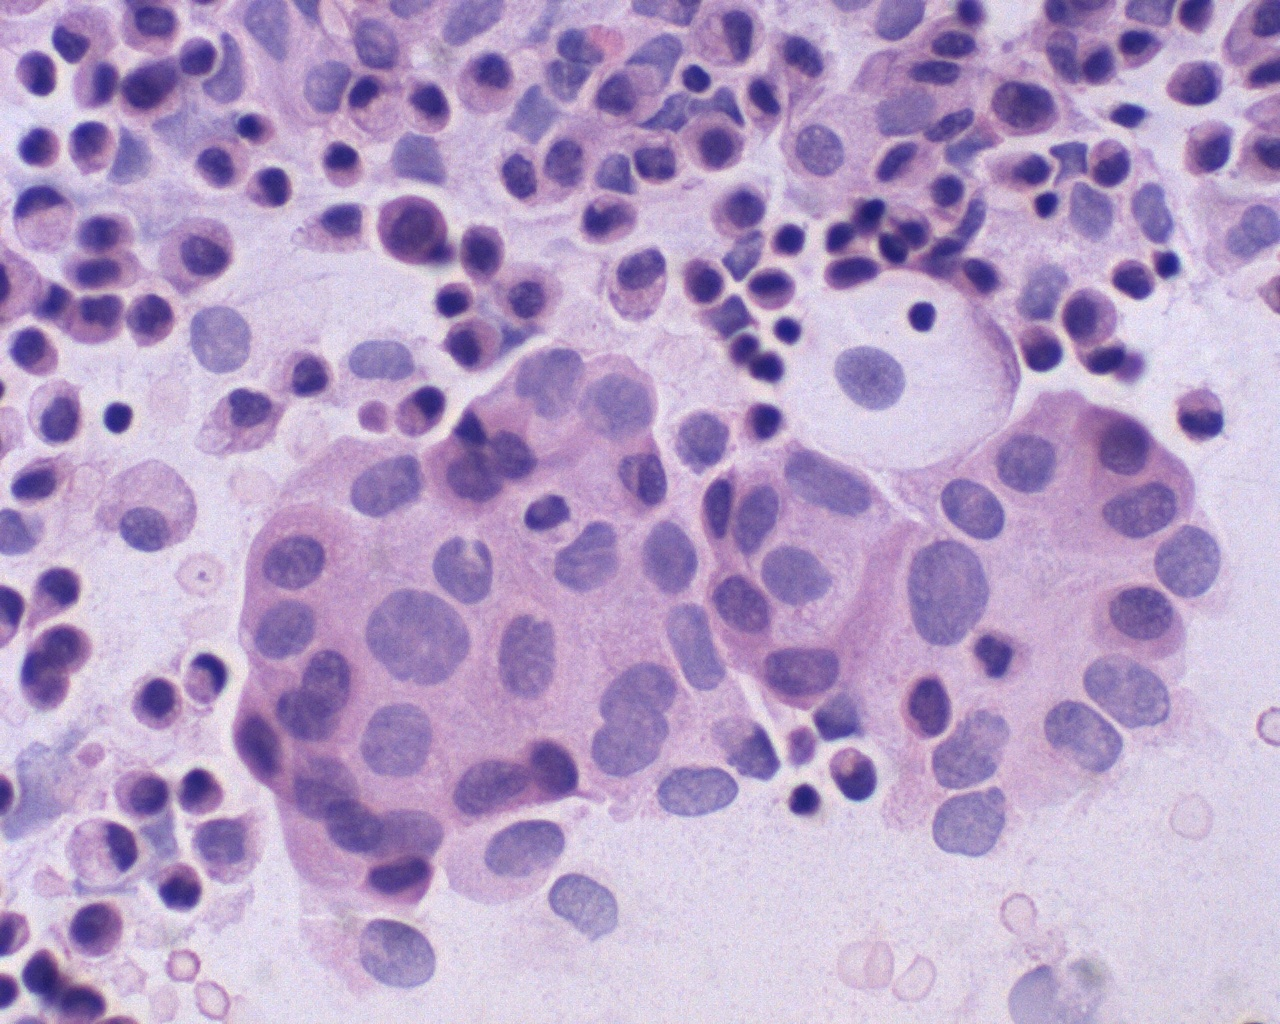ab: (446, 816, 573, 908), (898, 539, 994, 649), (1087, 575, 1193, 669), (366, 189, 451, 266), (888, 665, 962, 747), (986, 77, 1063, 143), (1157, 50, 1234, 111)
histo: (781, 270, 1027, 479), (98, 453, 213, 554), (60, 809, 137, 892), (9, 180, 79, 257)
lymph: (101, 392, 138, 441), (899, 296, 939, 338)
meso: (155, 214, 239, 294), (602, 238, 669, 325), (1061, 282, 1125, 351), (444, 316, 506, 376), (126, 676, 188, 736), (318, 135, 369, 189)
